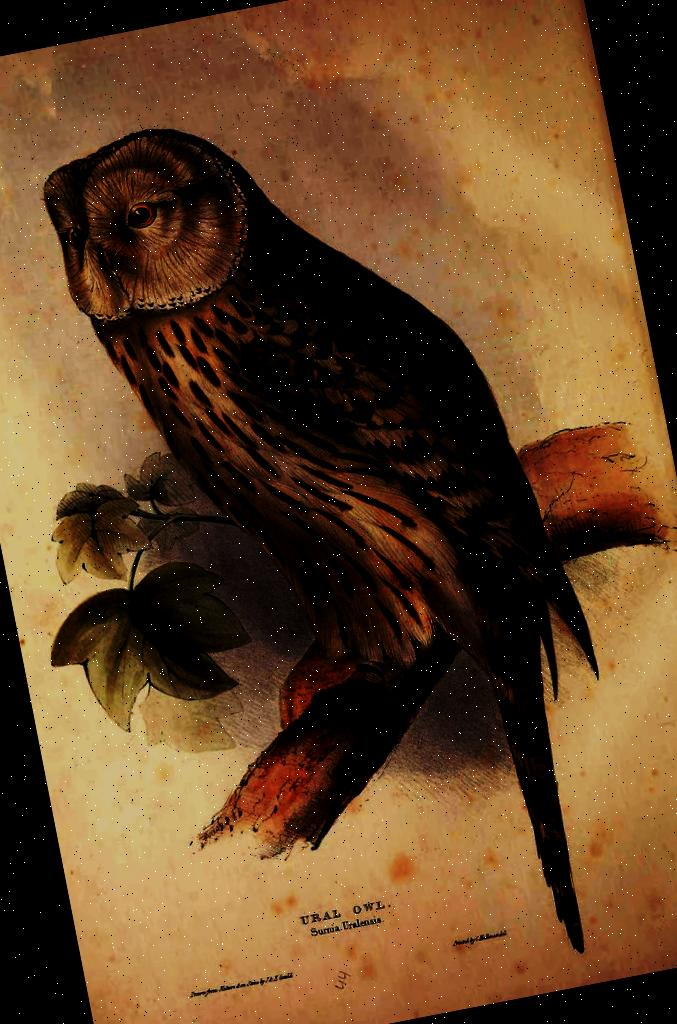Owl: (32, 60, 651, 1023)
